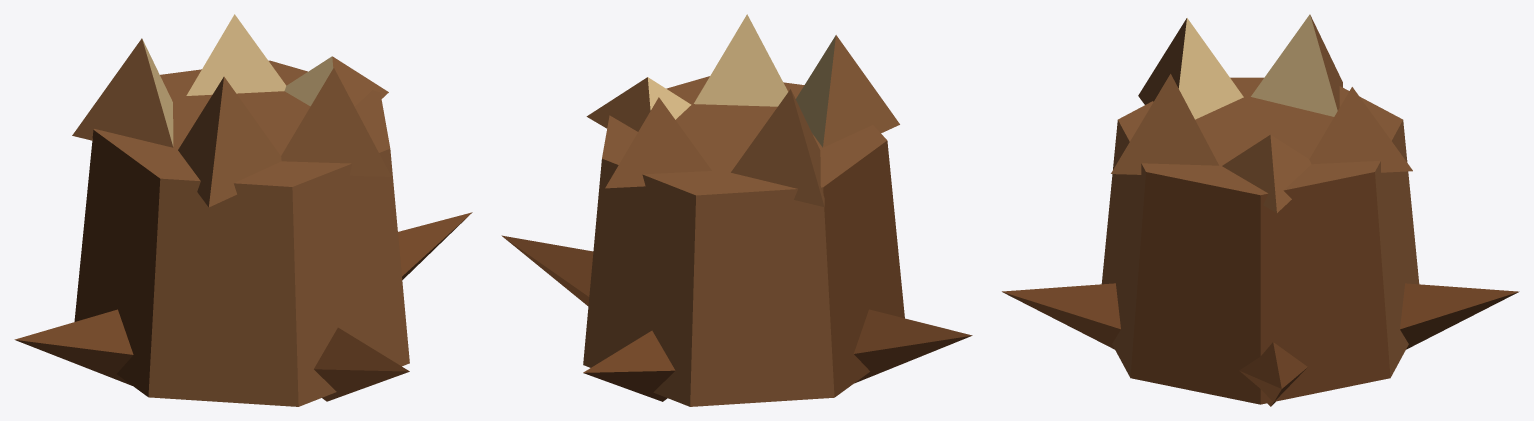
The model's file is stump_old.glb.
3 views of the same model, side by side, from view 1: azimuth 30°, elevation 25°; view 2: azimuth 150°, elevation 25°; view 3: azimuth 270°, elevation 25° (orthographic). The views are drawn at different scales.
Visible parts, largest first — view 1: stump_old; view 2: stump_old; view 3: stump_old.
Part boxes in pixels (<box>): stump_old: <box>14,14,472,406</box>; stump_old: <box>501,14,972,406</box>; stump_old: <box>1002,14,1519,406</box>.
Bounding box in the file's own units: 0.4699 × 0.3055 × 0.4678.
Materials: 1 (1 with a texture image).
